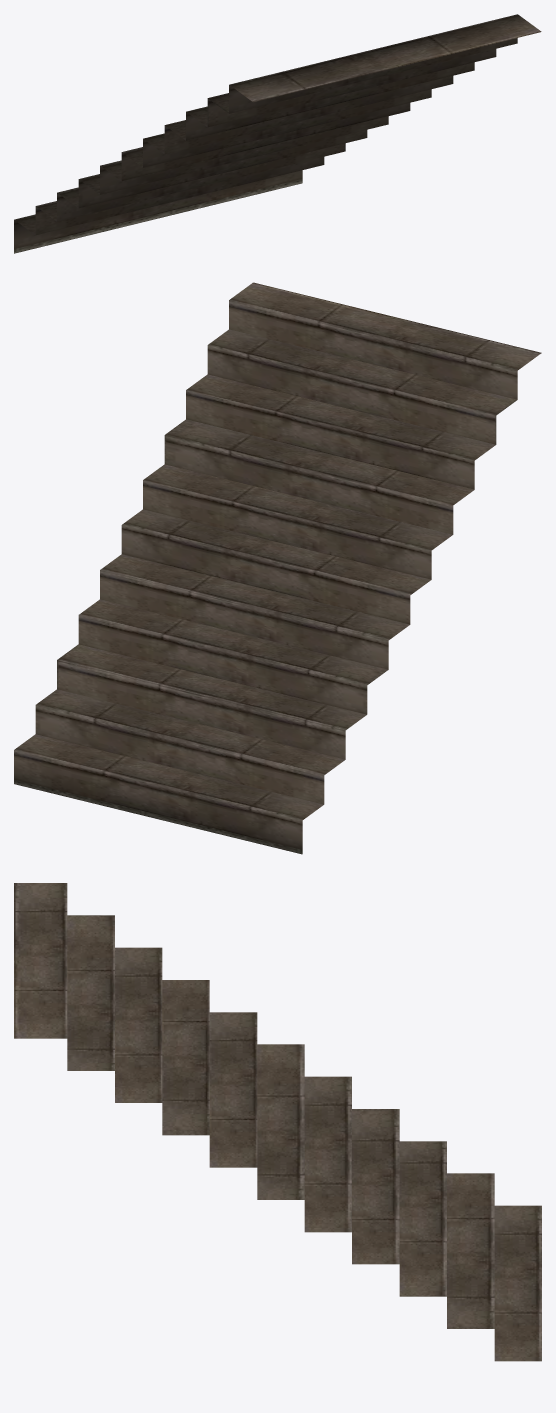
The model's file is OC_LOB_STAIRS_05.glb.
3 views of the same model, one above another, from view 1: azimuth 30°, elevation 25°; view 2: azimuth 150°, elevation 25°; view 3: azimuth 270°, elevation 25° (orthographic). The views are drawn at different scales.
Visible parts, largest first — view 1: Mesh; view 2: Mesh; view 3: Mesh.
Boxes of the visible parts, x1,y1,x2,y2 form: Mesh: (14,14,541,253); Mesh: (14,282,541,854); Mesh: (14,883,541,1361).
Size of the model in its own units: 3.1 by 3.35 by 4.45.
Materials: 1 (1 with a texture image).
